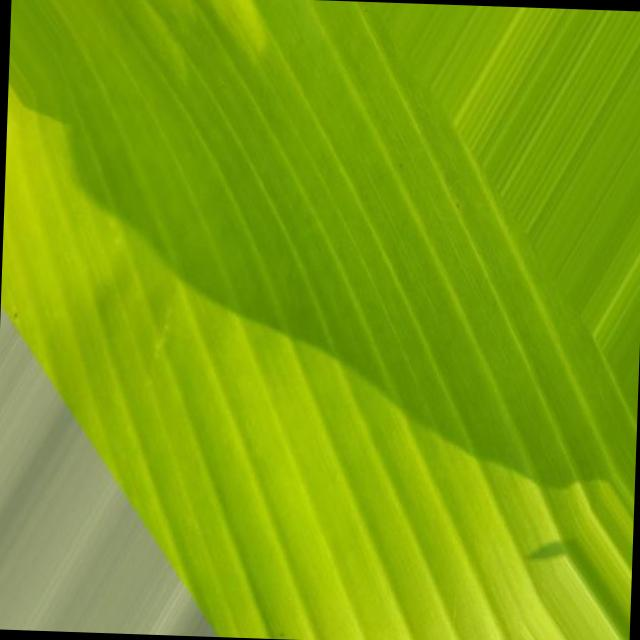Banana_Healthy: (145, 101, 600, 443)
